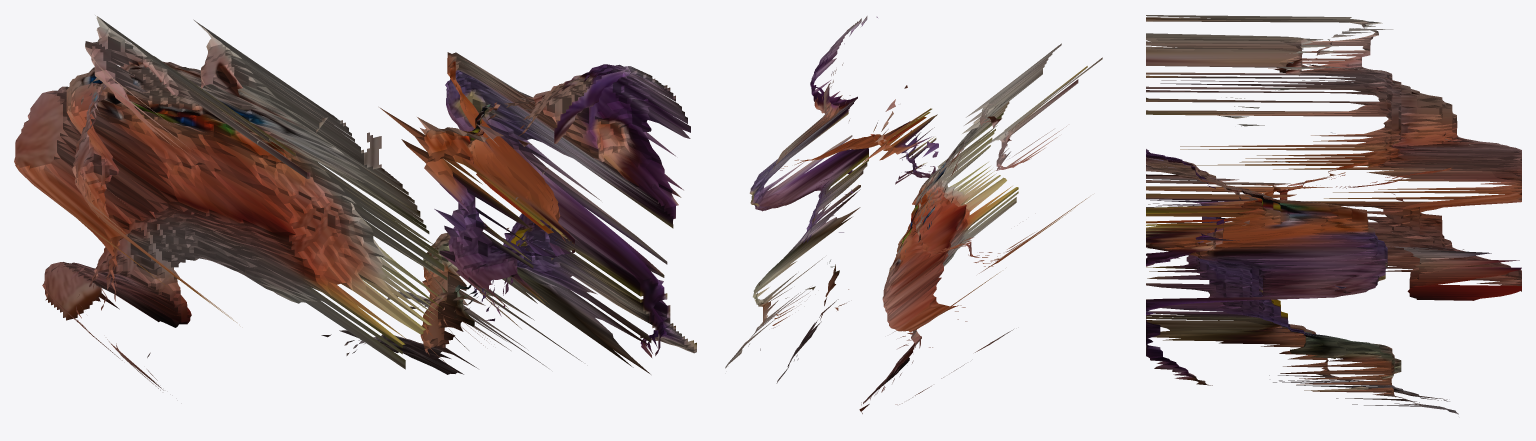
File: frame_00389.glb
3 renders of one model, left to right at view 1: azimuth 30°, elevation 25°; view 2: azimuth 150°, elevation 25°; view 3: azimuth 270°, elevation 25°, orthographic. The views are drawn at different scales.
Parts seen in each view (by area): view 1: geometry_0; view 2: geometry_0; view 3: geometry_0.
Part boxes in pixels (box(x1,y1,x2,y2)): geometry_0: box(14, 15, 696, 390); geometry_0: box(725, 16, 1102, 413); geometry_0: box(1146, 15, 1521, 414).
Size of the model in its own units: 0.1506 by 0.1385 by 0.16.
1 material, 1 textured.
